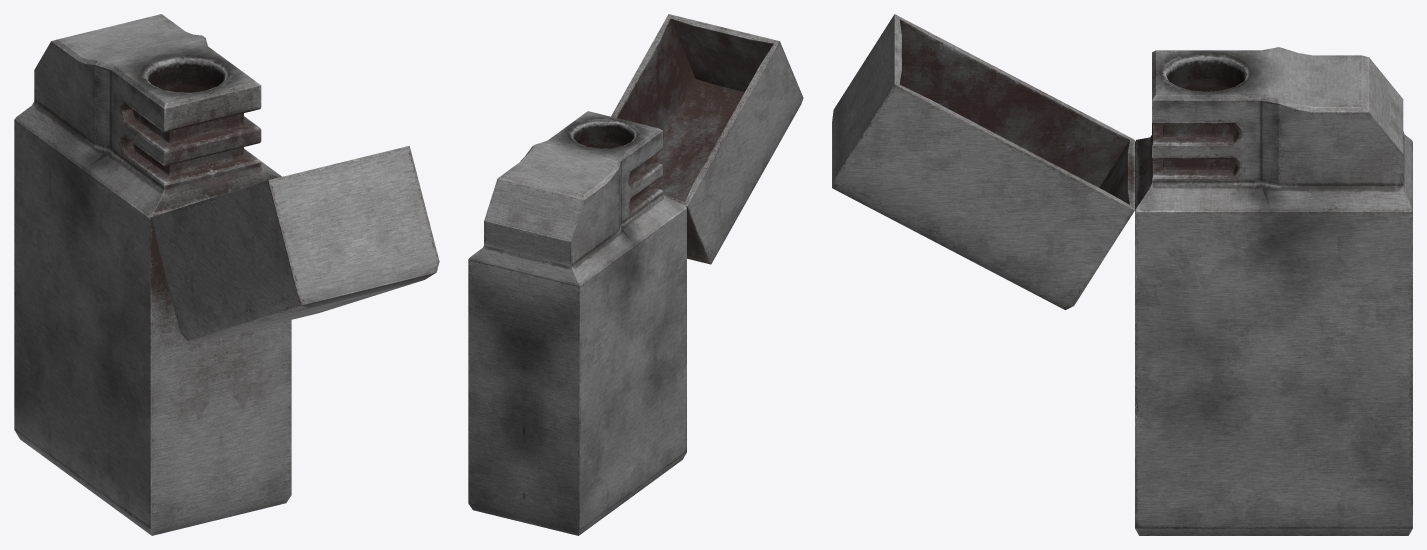
Rendered from low_poly_lighter.glb.
3 views of the same model, side by side, from view 1: azimuth 30°, elevation 25°; view 2: azimuth 150°, elevation 25°; view 3: azimuth 270°, elevation 25° (orthographic). The views are drawn at different scales.
Visible parts, largest first — view 1: Cube, Cube.001; view 2: Cube, Cube.001; view 3: Cube, Cube.001.
Part boxes in pixels (x1,y1,x2,y2): Cube: [14, 14, 291, 535]; Cube.001: [150, 146, 439, 341]; Cube: [468, 111, 686, 535]; Cube.001: [611, 14, 803, 264]; Cube: [1135, 47, 1412, 535]; Cube.001: [832, 14, 1134, 309].
Bounding box in the file's own units: 1.2 × 3.63 × 4.18.
Materials: 1 (1 with a texture image).
